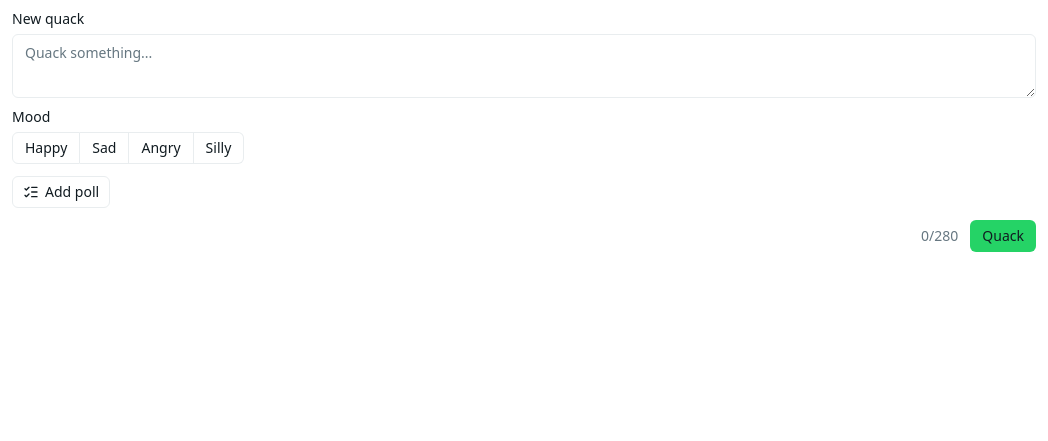
Test case: QuackForm › poll › starts a poll with two options
The image size is (1048, 441).
Step 1. Click the button "Add poll" → (61, 192), box [12,176,110,208]
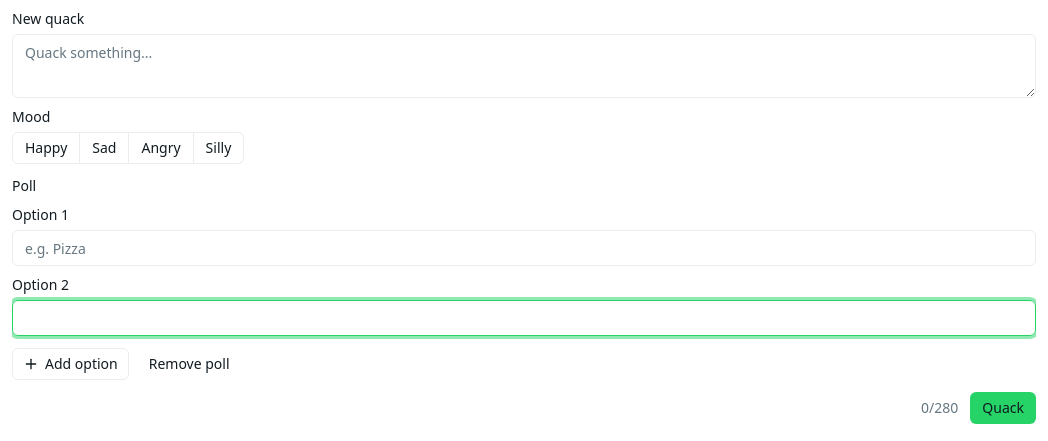
Check: the field labelled "Option 1" is shown, box [12,230,1036,266]
